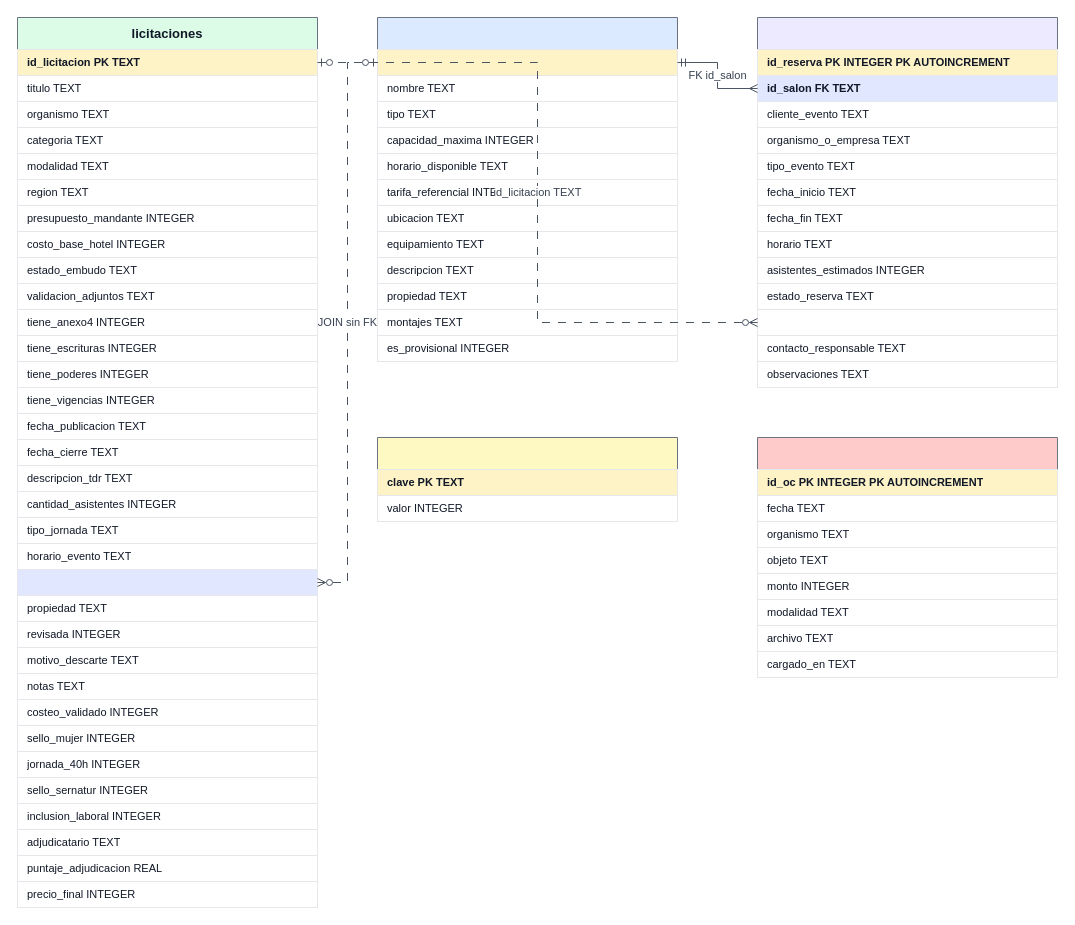
This 1075x925 diagram has some shape labels left out. The box of each missing label's shape, as (x1, y1, x2, y2) in pixels:
ajustes: (376, 436, 678, 522)
historial_oc: (756, 436, 1058, 678)
id_licitacion TEXT sin FK: (756, 308, 1058, 336)
id_salon PK TEXT: (376, 48, 678, 76)
id_salon_asignado FK TEXT sin FK: (16, 568, 318, 596)
reservas_salones: (756, 16, 1058, 388)
salones: (376, 16, 678, 362)
